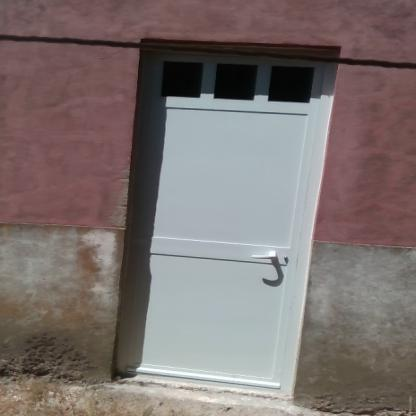door: (142, 46, 302, 391)
lever: (245, 249, 280, 264)
